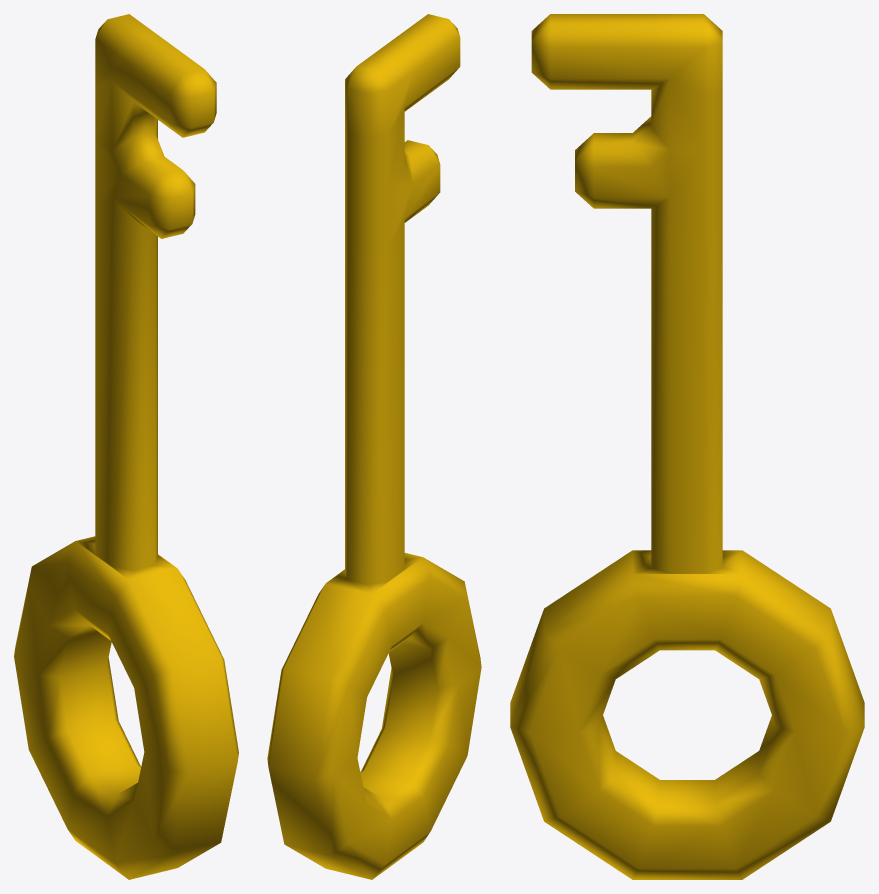
The model's file is Key_Weapon_001.fbx.
3 renders of one model, left to right at view 1: azimuth 30°, elevation 25°; view 2: azimuth 150°, elevation 25°; view 3: azimuth 270°, elevation 25°, orthographic. The views are drawn at different scales.
Parts seen in each view (by area): view 1: Key1; view 2: Key1; view 3: Key1.
Boxes of the visible parts, box(x1,y1,x2,y2) form: Key1: box(14, 14, 238, 879); Key1: box(267, 14, 481, 879); Key1: box(510, 14, 864, 879).
Size of the model in its own units: 0.0851 by 0.9588 by 0.3631.
